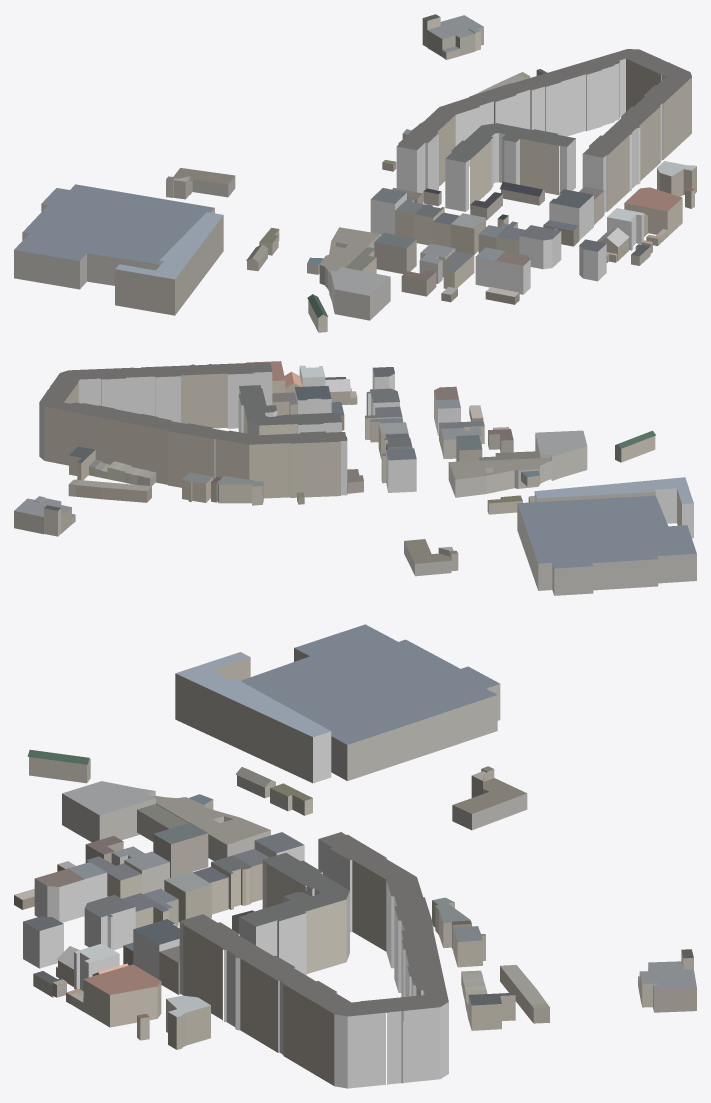
3 renders of one model, top to bottom at view 1: azimuth 30°, elevation 25°; view 2: azimuth 150°, elevation 25°; view 3: azimuth 270°, elevation 25°, orthographic. The views are drawn at different scales.
Parts seen in each view (by area): view 1: tuile; view 2: tuile; view 3: tuile.
Part boxes in pixels (bbox=[...]): tuile: bbox=[14, 14, 696, 332]; tuile: bbox=[14, 361, 696, 595]; tuile: bbox=[14, 624, 696, 1088].
Size of the model in its own units: 325 by 28.9 by 225.
